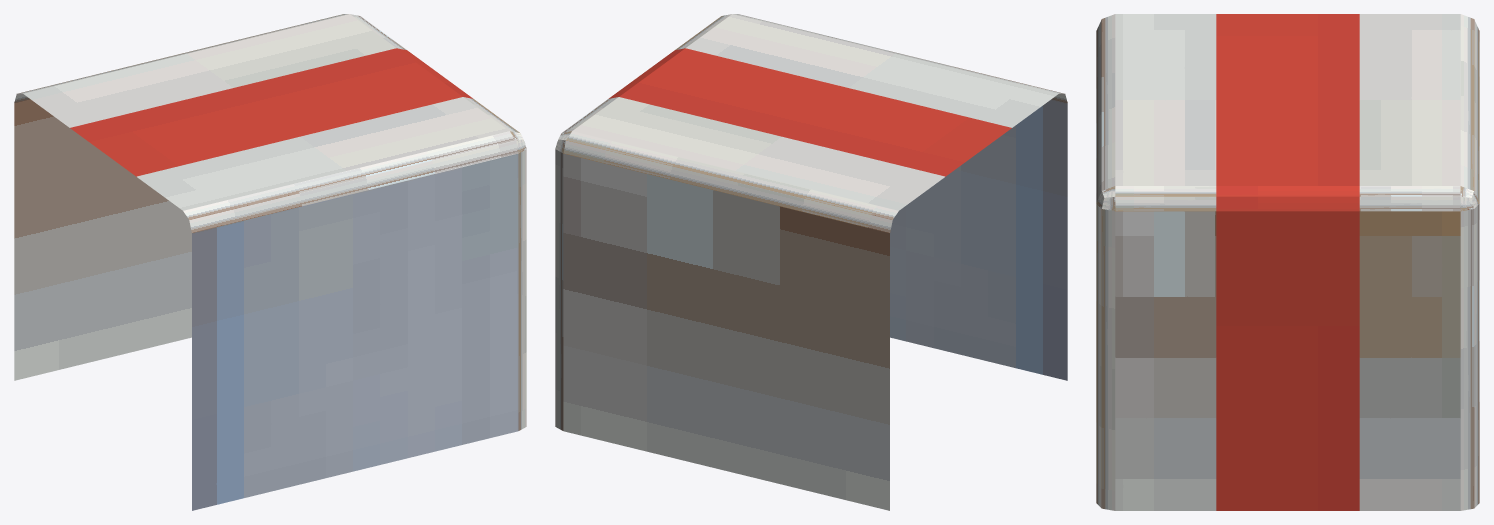
3 renders of one model, left to right at view 1: azimuth 30°, elevation 25°; view 2: azimuth 150°, elevation 25°; view 3: azimuth 270°, elevation 25°, orthographic. The views are drawn at different scales.
Parts seen in each view (by area): view 1: ar_002; view 2: ar_002; view 3: ar_002.
Part boxes in pixels (<box>): ar_002: <box>14,14,526,510</box>; ar_002: <box>555,14,1067,510</box>; ar_002: <box>1096,14,1479,510</box>.
Size of the model in its own units: 2.22 by 1.82 by 2.
Materials: 1 (1 with a texture image).
